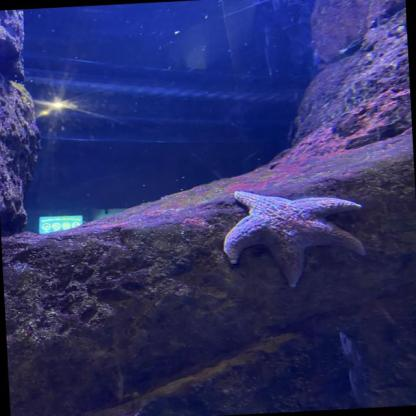starfish: (221, 186, 366, 291)
